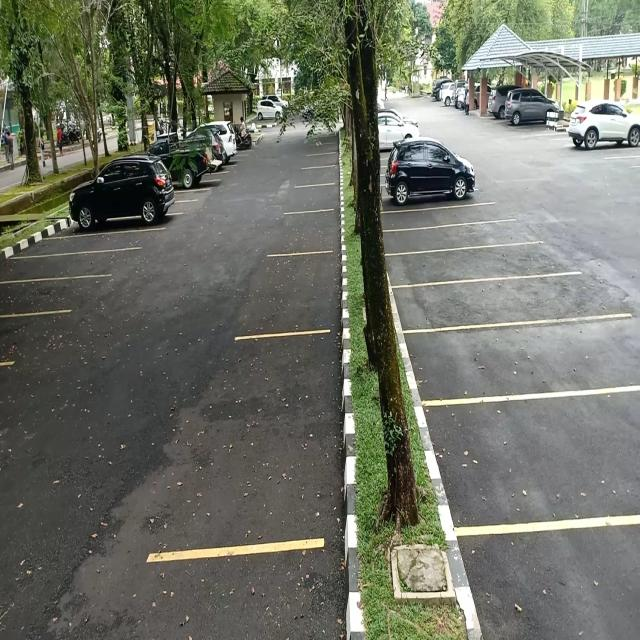empty: (213, 330, 343, 556), (447, 395, 640, 527), (413, 320, 608, 400), (405, 277, 553, 331), (261, 249, 338, 335), (386, 221, 535, 252), (396, 251, 540, 281), (0, 274, 98, 312), (8, 251, 122, 281), (283, 210, 338, 254), (46, 232, 141, 254), (292, 185, 338, 213)
occupied: (65, 182, 176, 235), (380, 163, 494, 207)
